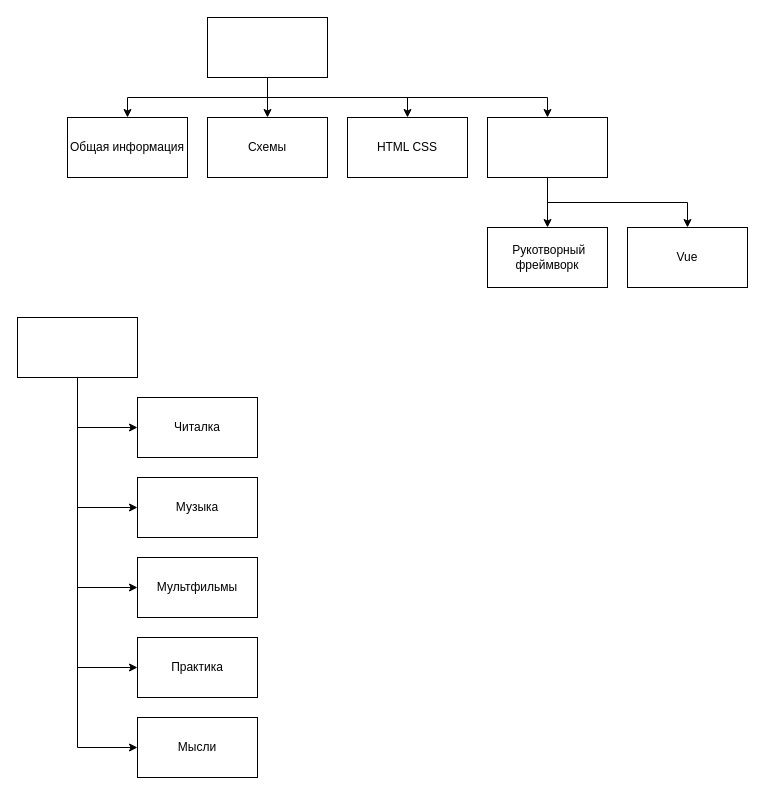
This 765x795 diagram has some shape labels left out. Each missing label, with the centre of its shape:
"Вариации реализации js" goes at point (547, 147).
"Реализация" goes at point (77, 347).
"Репозиторий" goes at point (267, 47).
